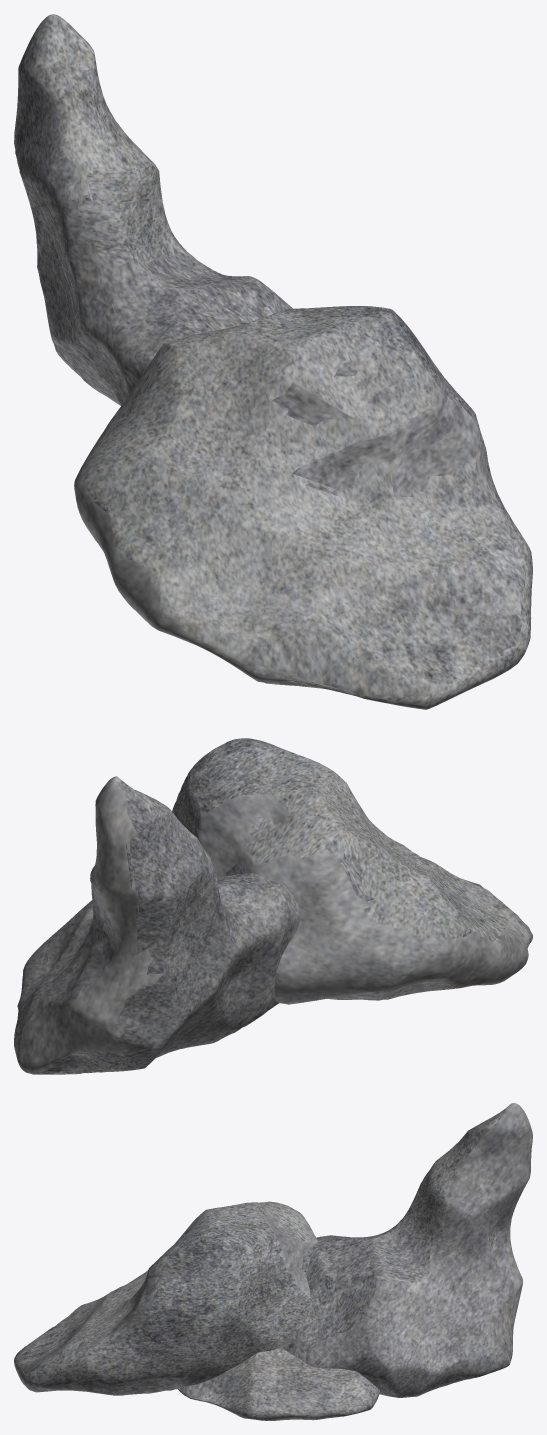
Rendered from pedra.2.obj.
3 renders of one model, top to bottom at view 1: azimuth 30°, elevation 25°; view 2: azimuth 150°, elevation 25°; view 3: azimuth 270°, elevation 25°, orthographic. The views are drawn at different scales.
Visible parts, largest first — view 1: Cube.002; view 2: Cube.002; view 3: Cube.002.
Boxes of the visible parts, x1,y1,x2,y2 form: Cube.002: [14, 14, 532, 709]; Cube.002: [14, 738, 532, 1074]; Cube.002: [14, 1103, 532, 1420].
Size of the model in its own units: 5.08 by 5.06 by 8.74.
